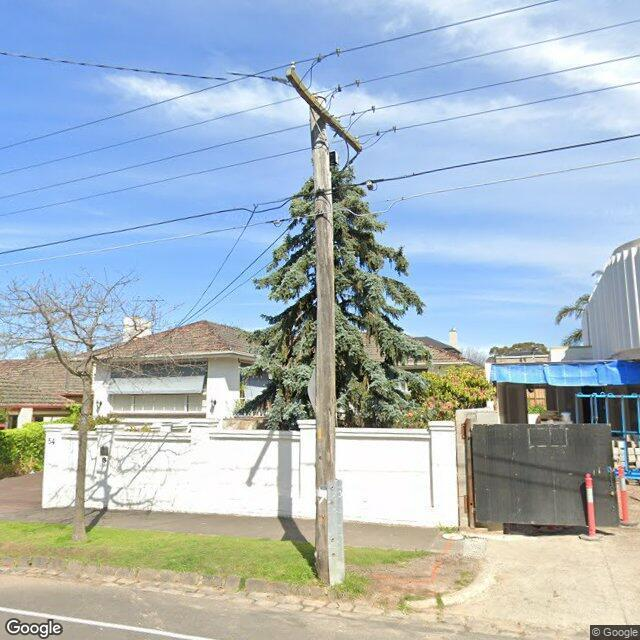crossarm: (286, 68, 362, 152)
timber-pole: (308, 93, 336, 585)
